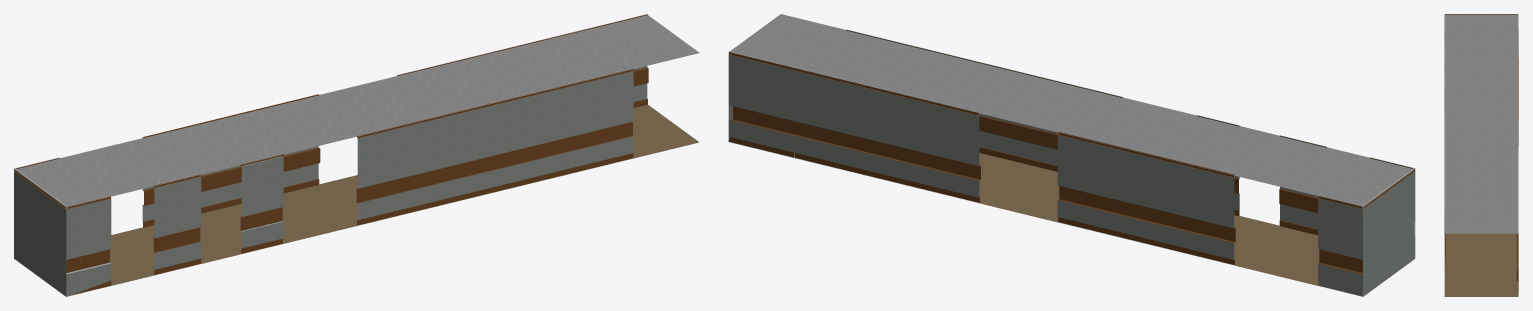
The model's file is coradoorA.fbx.
3 views of the same model, side by side, from view 1: azimuth 30°, elevation 25°; view 2: azimuth 150°, elevation 25°; view 3: azimuth 270°, elevation 25° (orthographic). The views are drawn at different scales.
Visible parts, largest first — view 1: polySurface3, polySurface1; view 2: polySurface3, polySurface1; view 3: polySurface1, polySurface3.
Boxes of the visible parts, <box> form: polySurface3: <box>14,14,699,296</box>; polySurface1: <box>15,15,699,207</box>; polySurface3: <box>728,29,1415,296</box>; polySurface1: <box>729,14,1414,206</box>; polySurface1: <box>1444,15,1518,233</box>; polySurface3: <box>1444,14,1518,296</box>.
Bounding box in the file's own units: 44.02 × 6 × 6.3.
5 materials, 4 textured.
